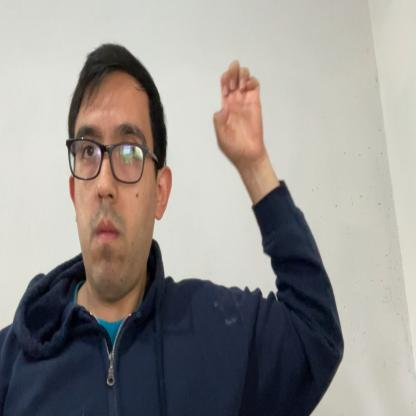E: (212, 58, 265, 160)
